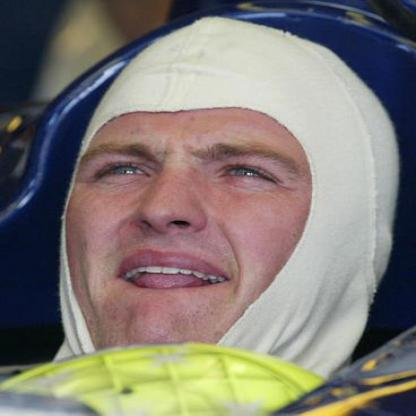face: (50, 20, 370, 388)
